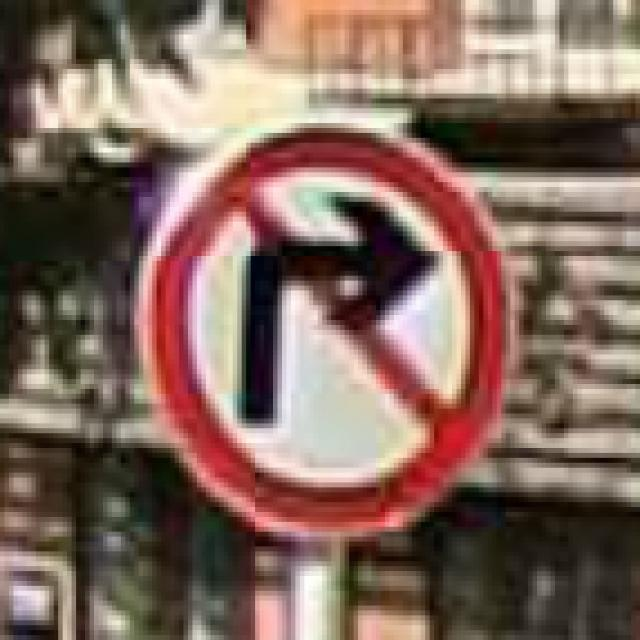Not that Direction: (136, 114, 518, 540)
